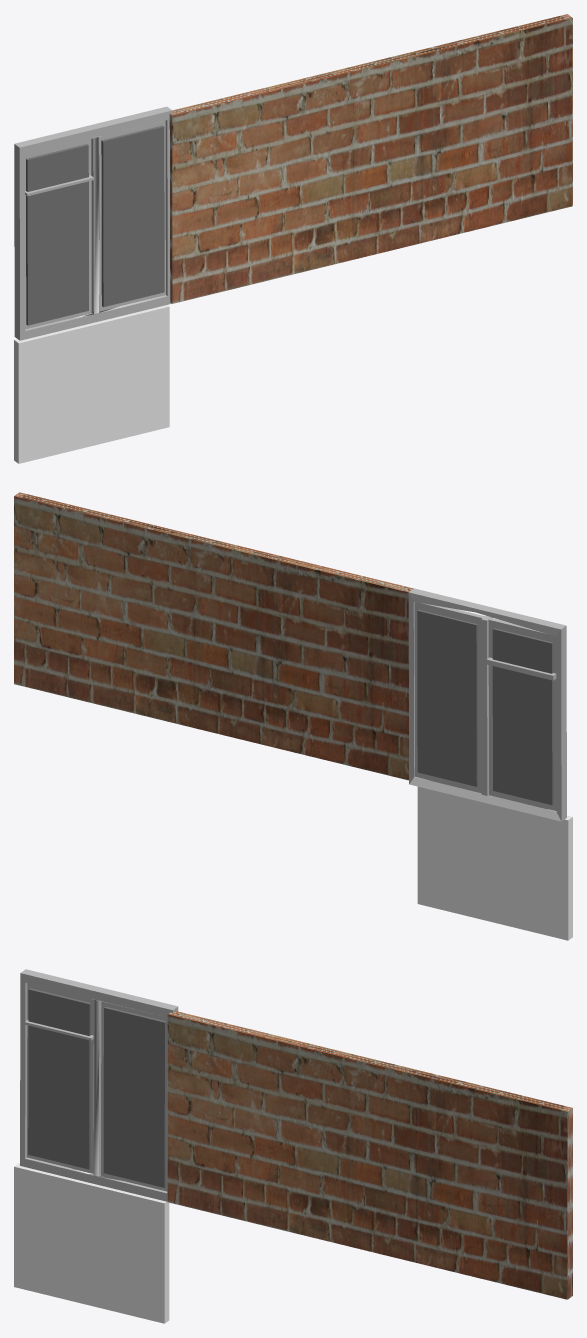
Rendered from 3-Part_Window_w_Brickwall_w-plane.FBX.
3 views of the same model, one above another, from view 1: azimuth 30°, elevation 25°; view 2: azimuth 150°, elevation 25°; view 3: azimuth 330°, elevation 25° (orthographic).
Visible parts, largest first — view 1: Box023, Plane002, Box001, Window_Frame, Window_Pane; view 2: Box023, Plane002, Box001, Window_Frame, Window_Pane; view 3: Box023, Plane002, Box001, Window_Frame, Window_Pane.
Part boxes in pixels (x1=…): Box023: x1=169, y1=14, x2=572, y2=303; Plane002: x1=26, y1=125, x2=164, y2=325; Box001: x1=14, y1=305, x2=169, y2=463; Window_Frame: x1=14, y1=106, x2=172, y2=340; Window_Pane: x1=24, y1=120, x2=165, y2=329; Box023: x1=14, y1=492, x2=413, y2=780; Plane002: x1=417, y1=609, x2=553, y2=805; Box001: x1=417, y1=786, x2=572, y2=940; Window_Frame: x1=408, y1=588, x2=566, y2=821; Window_Pane: x1=414, y1=602, x2=556, y2=810; Box023: x1=167, y1=1011, x2=572, y2=1299; Plane002: x1=28, y1=988, x2=166, y2=1187; Box001: x1=14, y1=1163, x2=169, y2=1323; Window_Frame: x1=20, y1=969, x2=178, y2=1201; Window_Pane: x1=27, y1=983, x2=167, y2=1191.
Bounding box in the file's own units: 36.74 × 19.84 × 1.17.
Materials: 4 (1 with a texture image).
